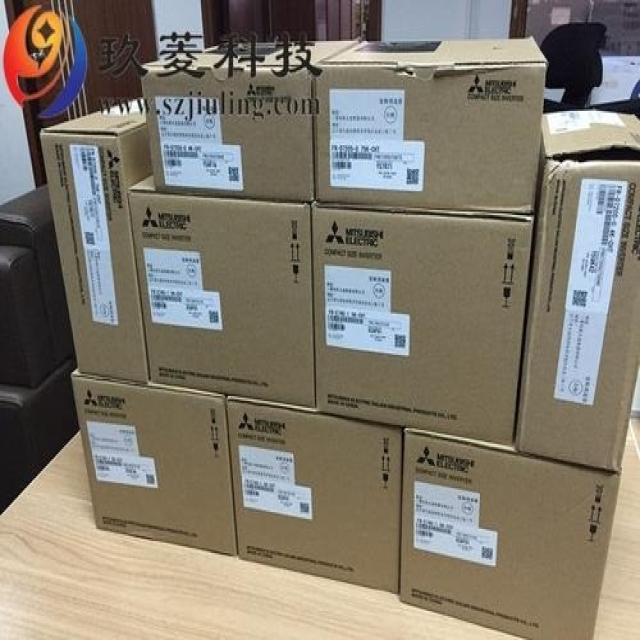box: (312, 202, 531, 447), (401, 430, 621, 638), (512, 114, 639, 473), (128, 174, 313, 410), (313, 38, 549, 217), (142, 40, 363, 202), (228, 396, 401, 597), (37, 95, 152, 384), (74, 372, 238, 556)
